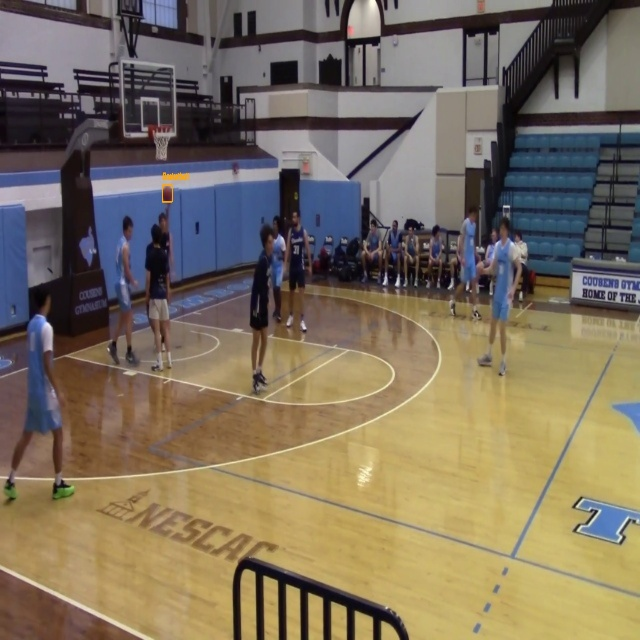Basketball: (163, 185, 172, 202)
